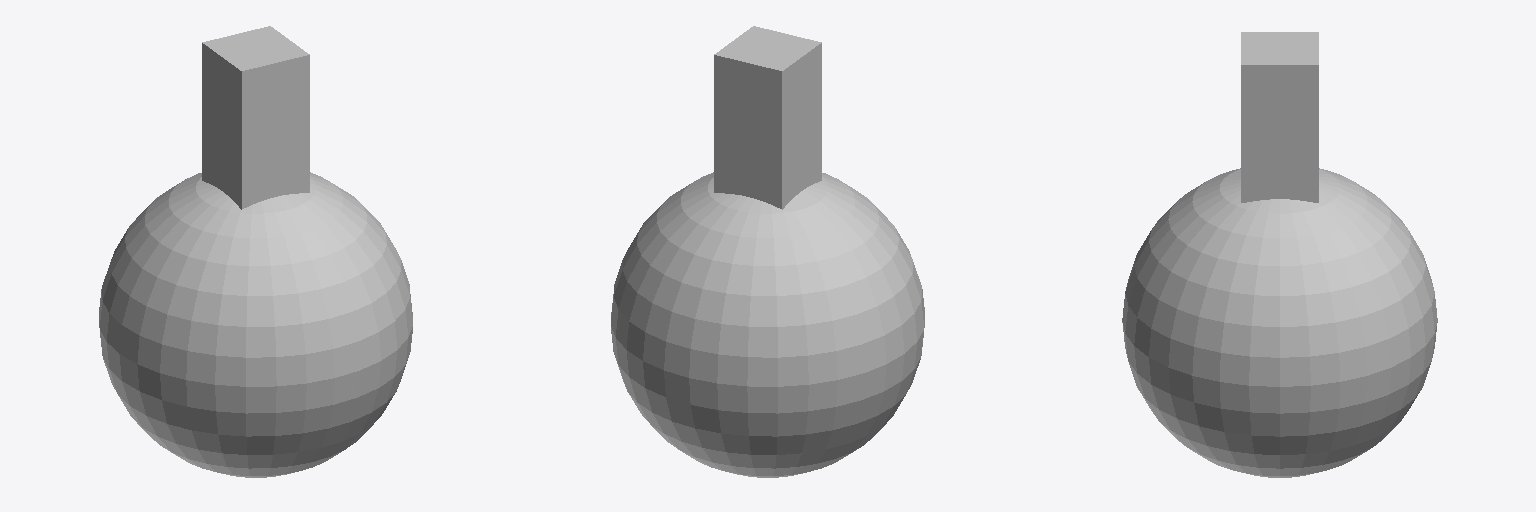
File: RailPoint.obj
The picture shows the model from 3 angles: view 1: azimuth 30°, elevation 25°; view 2: azimuth 150°, elevation 25°; view 3: azimuth 270°, elevation 25°; orthographic projection.
Parts seen in each view (by area): view 1: Point; view 2: Point; view 3: Point.
Part boxes in pixels (x1,y1,x2,y2): Point: (99, 26, 412, 477); Point: (611, 26, 924, 477); Point: (1122, 32, 1437, 477).
Bounding box in the file's own units: 0.2 × 0.29 × 0.2.